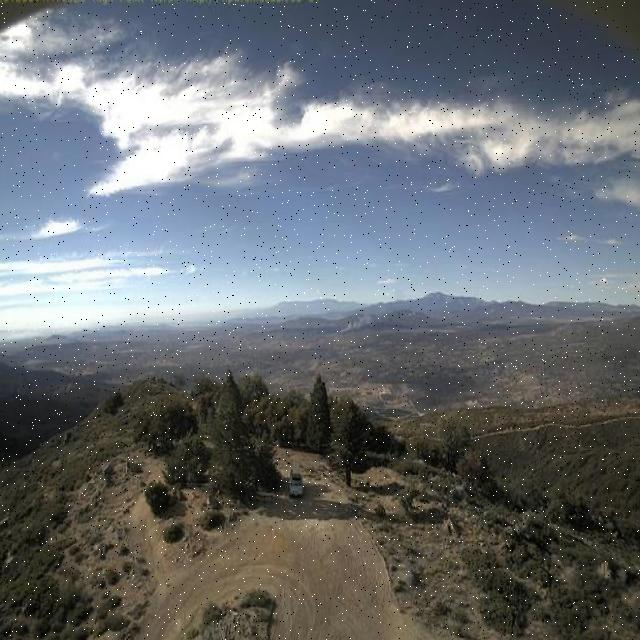smoke: (334, 292, 396, 340)
